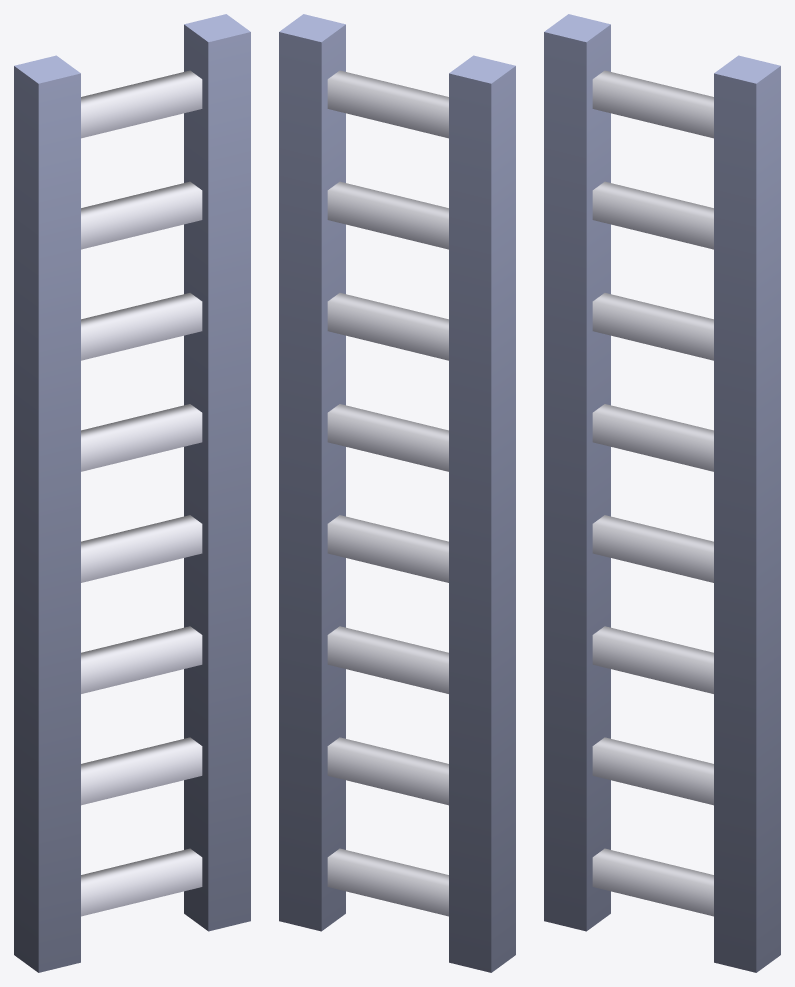
The model's file is ladder-long.glb.
3 renders of one model, left to right at view 1: azimuth 30°, elevation 25°; view 2: azimuth 150°, elevation 25°; view 3: azimuth 330°, elevation 25°, orthographic.
Parts seen in each view (by area): view 1: ladder-long; view 2: ladder-long; view 3: ladder-long.
Boxes of the visible parts, <box> form: ladder-long: <box>14,14,250,972</box>; ladder-long: <box>279,14,515,972</box>; ladder-long: <box>544,14,780,972</box>.
Size of the model in its own units: 0.5 by 2 by 0.1.
